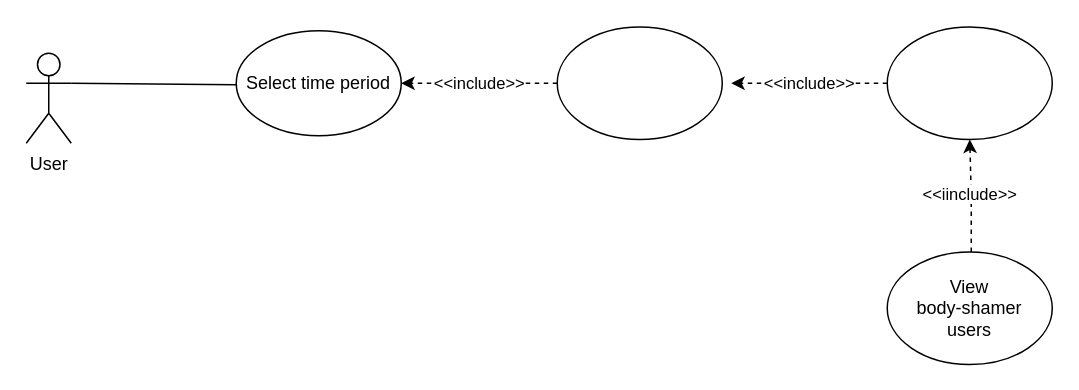
The diagram is 1079 pixels wide and 390 high, and some of its shapes have lost their labels. Each missing label, with the centre of its shape:
"Browse body-shamer users" goes at pixel 639 83.
"Find body-shamer users" goes at pixel 969 83.
